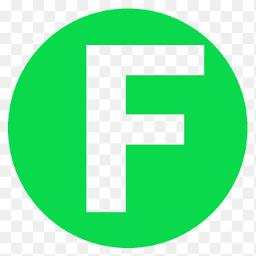f: (75, 40, 207, 218)
